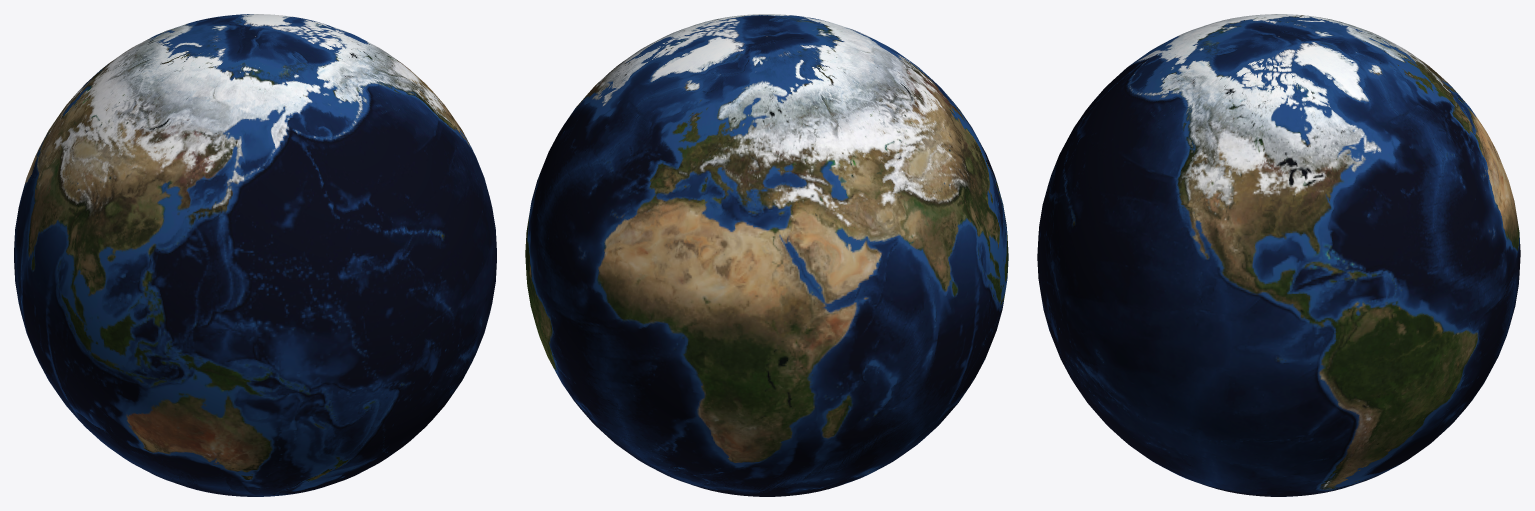
Rendered from Earth.obj.
3 renders of one model, left to right at view 1: azimuth 30°, elevation 25°; view 2: azimuth 150°, elevation 25°; view 3: azimuth 270°, elevation 25°, orthographic.
Parts seen in each view (by area): view 1: Sphere002; view 2: Sphere002; view 3: Sphere002.
Part boxes in pixels (x1,y1,x2,y2): Sphere002: (14, 14, 496, 496); Sphere002: (525, 14, 1008, 496); Sphere002: (1037, 14, 1520, 496).
Size of the model in its own units: 701 by 702 by 701.
